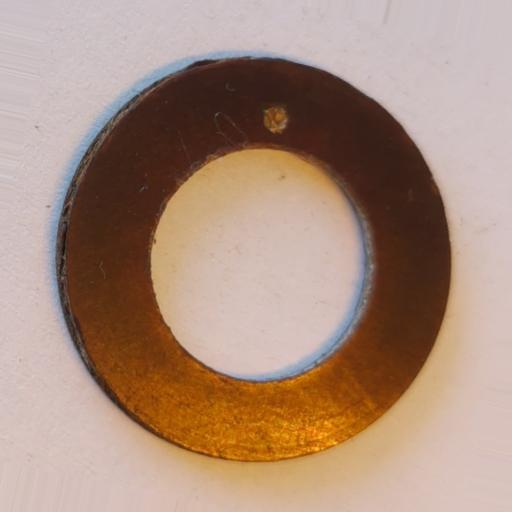defect: (262, 106, 289, 132)
